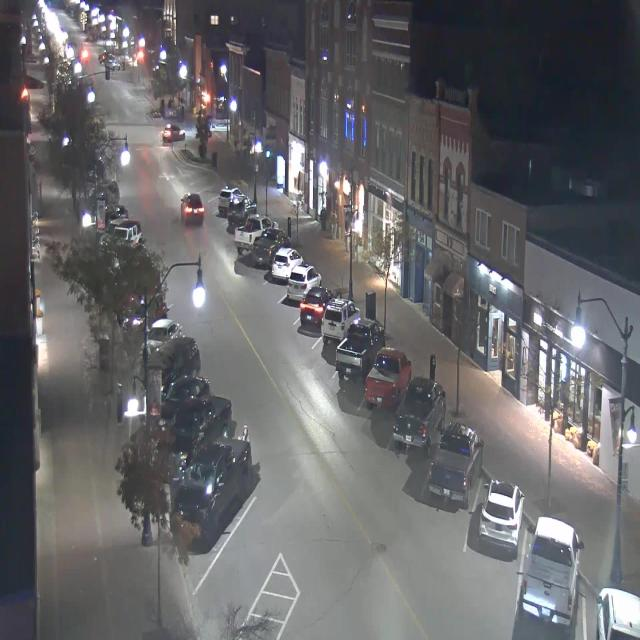occupied: (170, 425, 252, 547), (521, 514, 584, 626), (428, 420, 483, 509), (392, 375, 446, 456), (176, 387, 234, 456), (478, 477, 525, 557), (335, 316, 385, 382), (364, 346, 412, 410), (158, 374, 213, 424), (595, 586, 640, 639), (156, 334, 207, 375), (321, 296, 361, 346), (251, 231, 287, 272), (286, 262, 322, 302), (299, 285, 333, 327), (234, 214, 265, 255), (270, 249, 304, 285), (228, 194, 257, 222), (216, 185, 240, 210)
